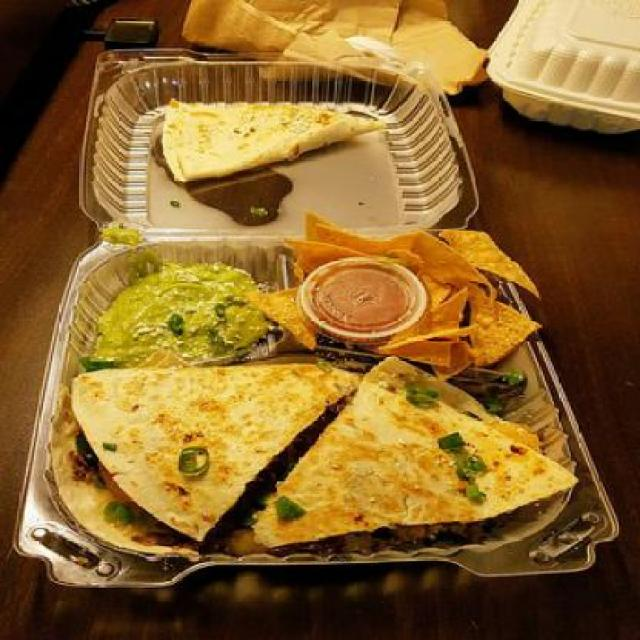chicken quesadilla: (54, 358, 541, 559), (148, 89, 394, 188)
guacamole: (73, 256, 273, 362)
nachos: (252, 224, 534, 358)
